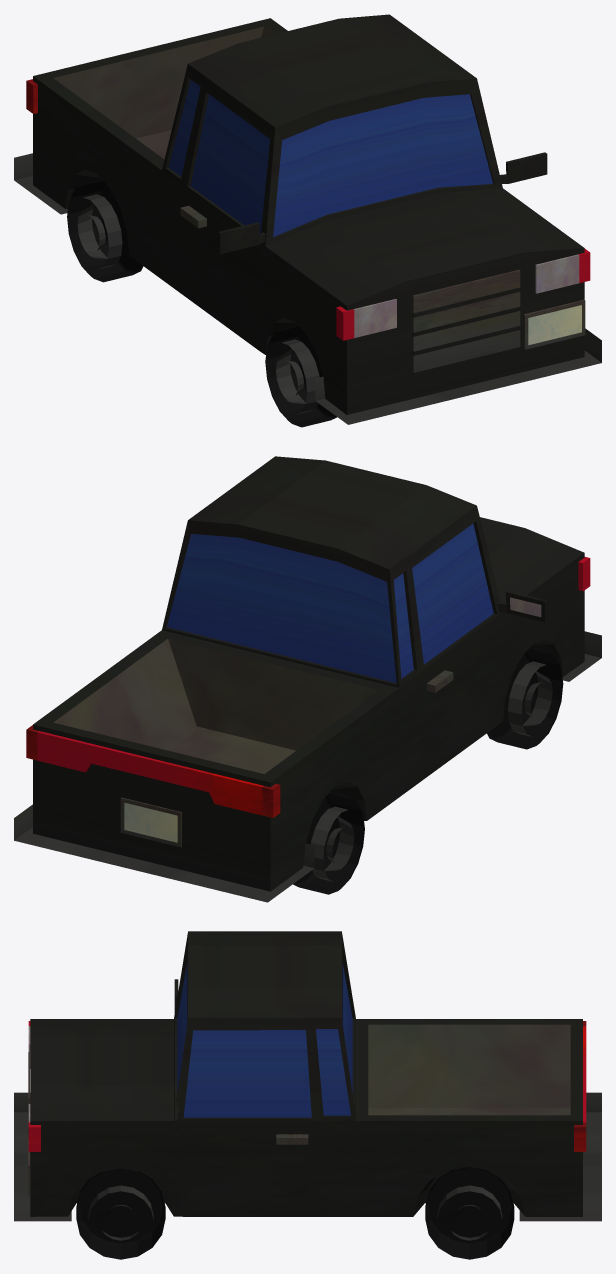
File: vehicle001.glb
3 renders of one model, top to bottom at view 1: azimuth 30°, elevation 25°; view 2: azimuth 150°, elevation 25°; view 3: azimuth 270°, elevation 25°, orthographic. The views are drawn at different scales.
Visible parts, largest first — view 1: vehicle001; view 2: vehicle001; view 3: vehicle001.
Boxes of the visible parts, x1,y1,x2,y2 form: vehicle001: (14,14,601,427); vehicle001: (14,456,601,902); vehicle001: (14,931,601,1259).
Bounding box in the file's own units: 3.49 × 2.77 × 6.18.
Materials: 1 (1 with a texture image).
